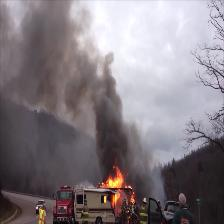fire: (108, 170, 123, 188)
smoke: (23, 22, 94, 111), (100, 107, 132, 167)
